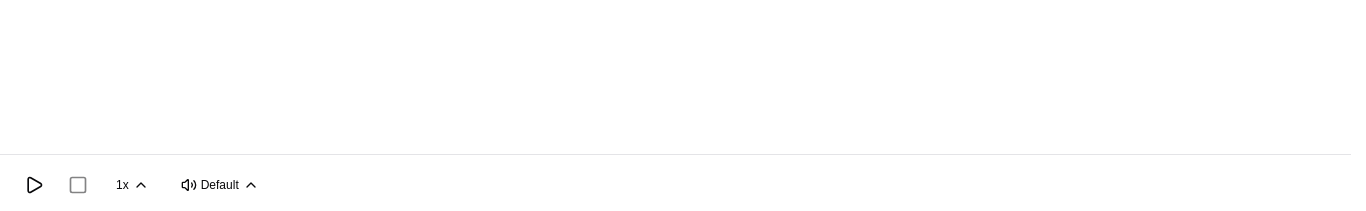
Test case: TtsControls › renders only five example voices in the selector menu
The image size is (1366, 211).
What coordinates should you click on to do the following:
click the button with test id "tts-voice"
I would click on:
 (220, 185)
Its box is [169,169,271,201].
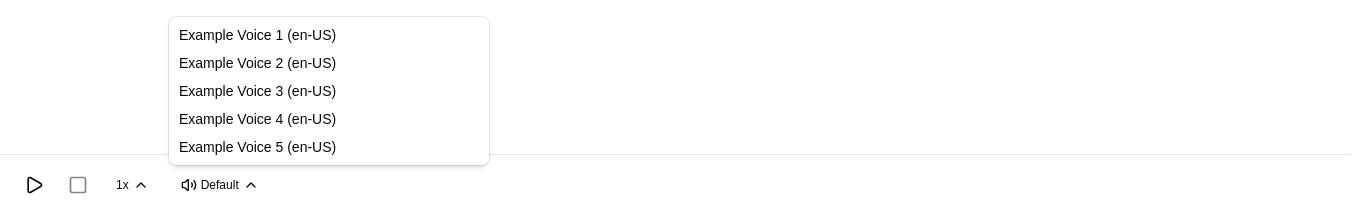
Now the menu item "Example Voice 1 (en-US)" is shown, box [179,27,336,43]
Now the menu item "Example Voice 5 (en-US)" is shown, box [179,139,336,155]
